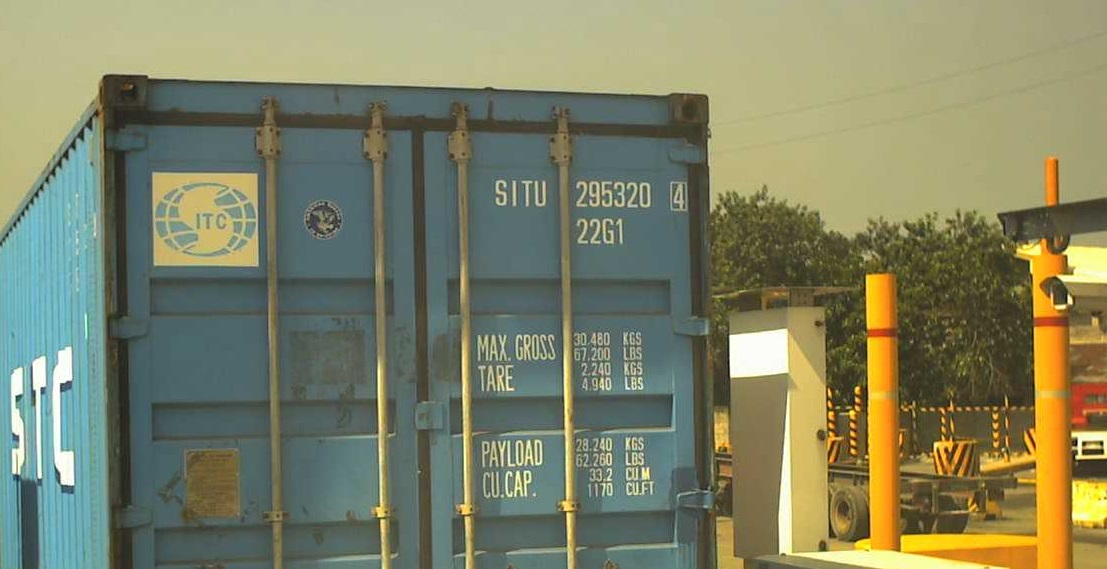container_door: (93, 72, 718, 568)
